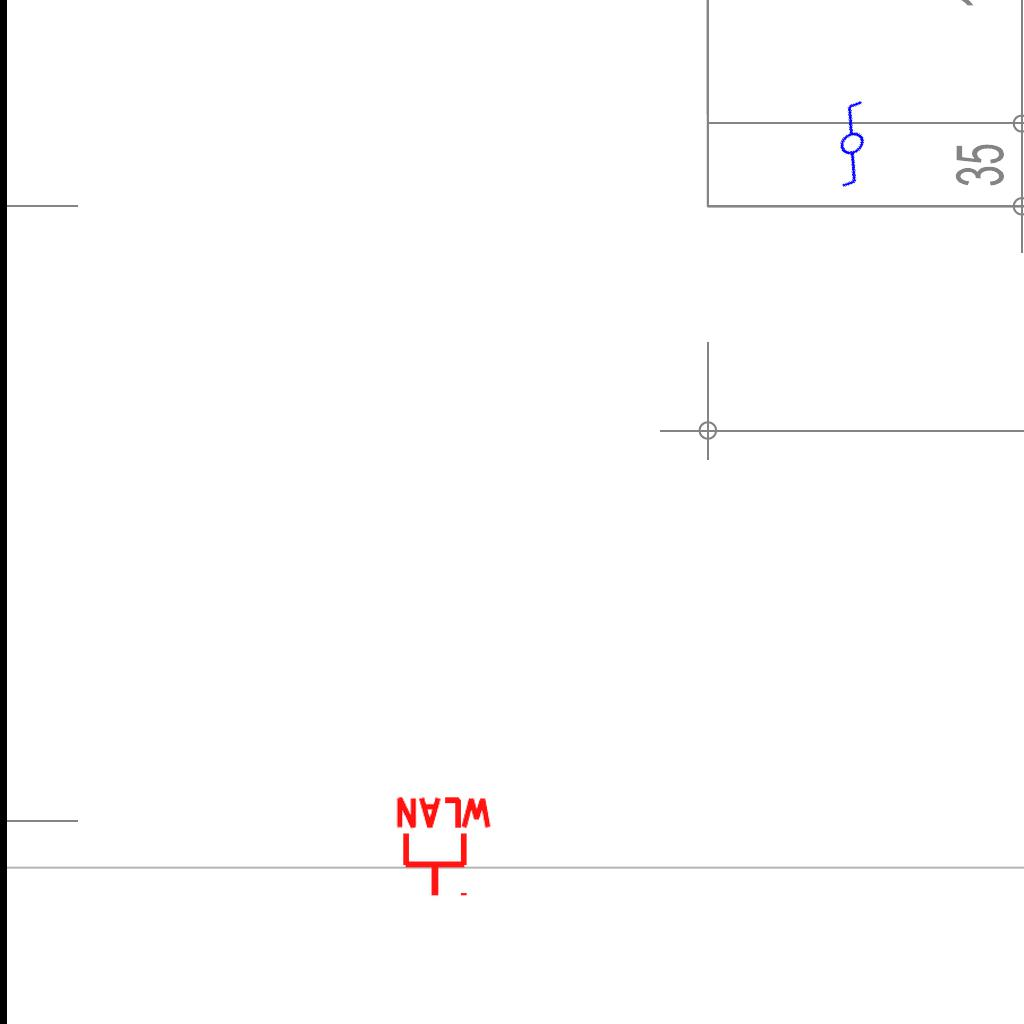WLAN: (392, 795, 496, 900)
Wechselschalter: (803, 89, 909, 195)
